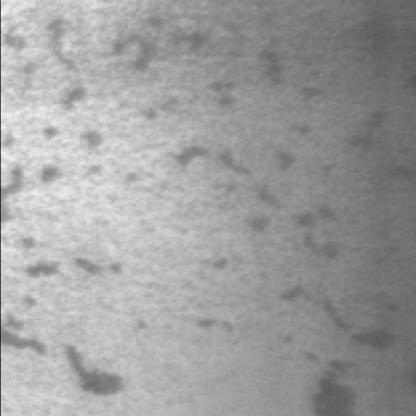patches: (61, 341, 137, 408), (307, 357, 366, 416)
pitted_surface: (34, 72, 402, 354), (4, 11, 414, 116)
